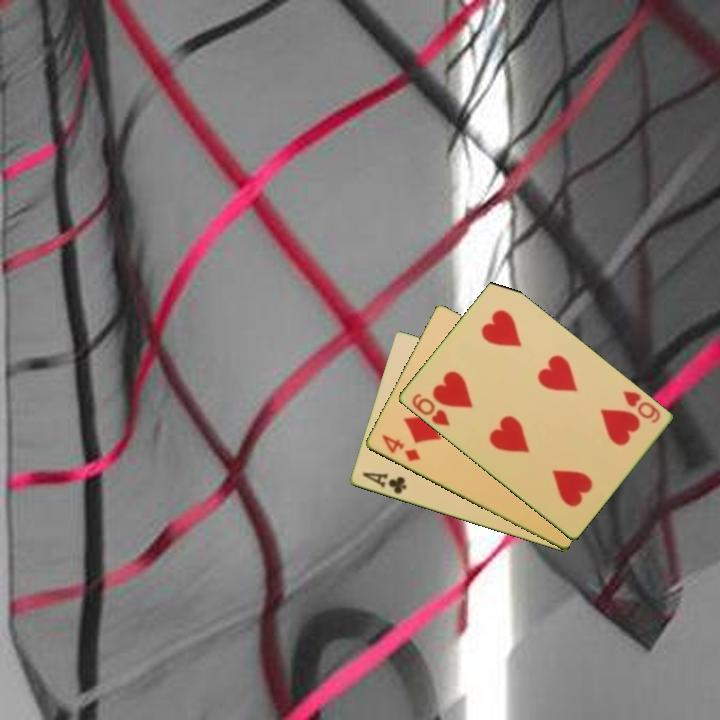4d: (378, 431, 423, 465)
6h: (619, 387, 663, 427), (408, 390, 453, 429)
Ac: (358, 469, 409, 497)
